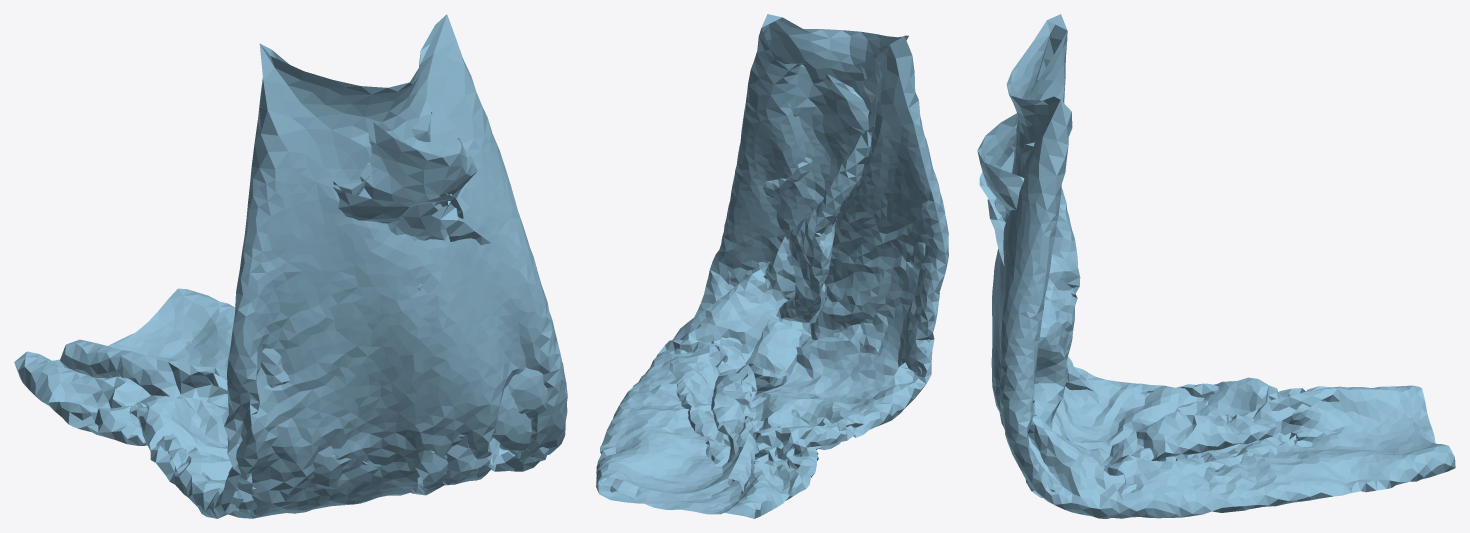
File: frame_10.glb
3 views of the same model, side by side, from view 1: azimuth 30°, elevation 25°; view 2: azimuth 150°, elevation 25°; view 3: azimuth 270°, elevation 25° (orthographic). The views are drawn at different scales.
Visible parts, largest first — view 1: frame_10.obj; view 2: frame_10.obj; view 3: frame_10.obj.
Part boxes in pixels (left/top/right/bottom): frame_10.obj: left=14, top=14, right=567, bottom=518; frame_10.obj: left=596, top=14, right=948, bottom=518; frame_10.obj: left=977, top=14, right=1455, bottom=518.
Bounding box in the file's own units: 0.8164 × 1.14 × 1.24.
